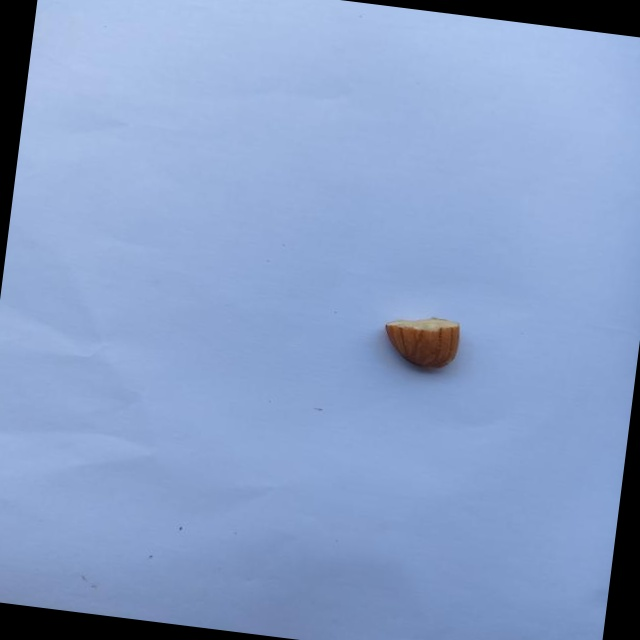grade4: (371, 306, 469, 380)
